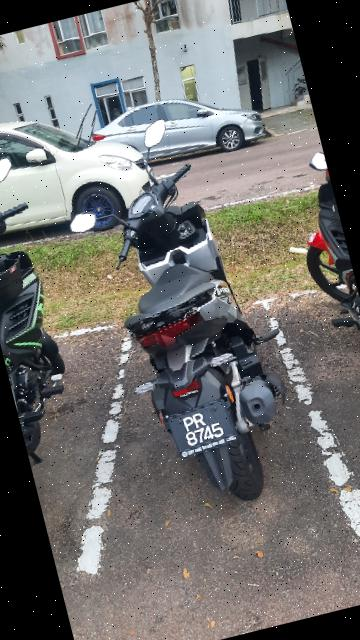License_Plate: (166, 395, 244, 465)
motorcycle: (48, 97, 328, 531)
